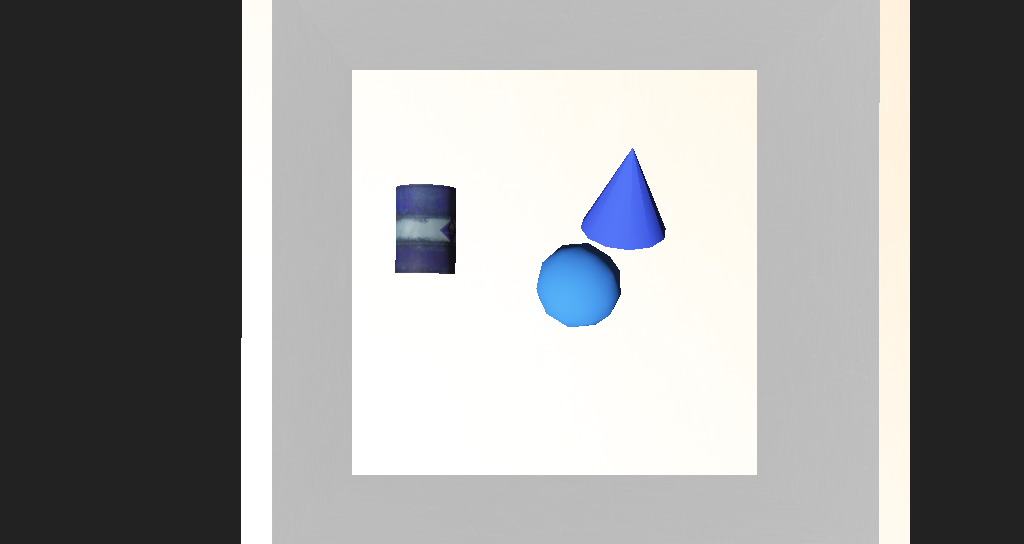cone: (387, 227, 435, 270)
cylinder: (525, 191, 593, 258)
sphere: (495, 255, 556, 298)
